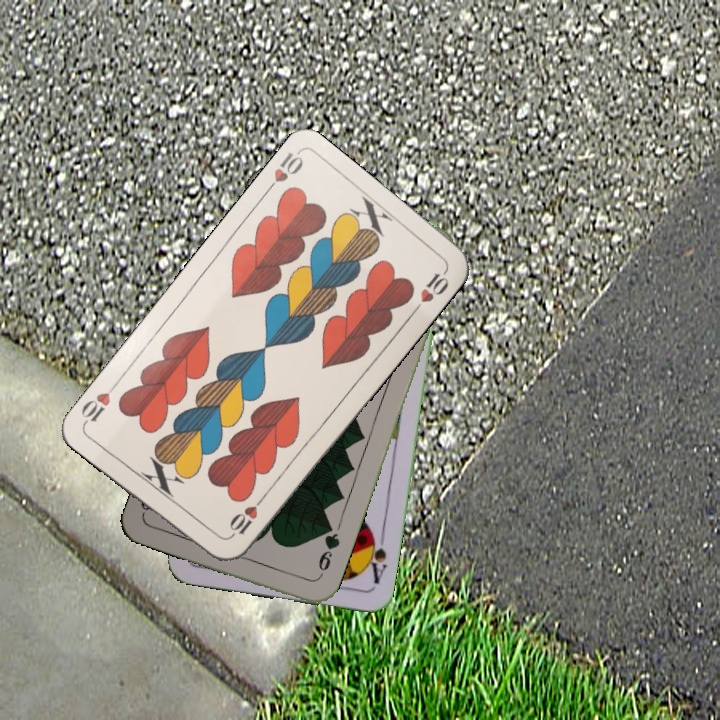G9: (313, 522, 343, 581)
H10: (260, 148, 306, 198), (224, 492, 267, 542)
SA: (361, 528, 390, 586)
